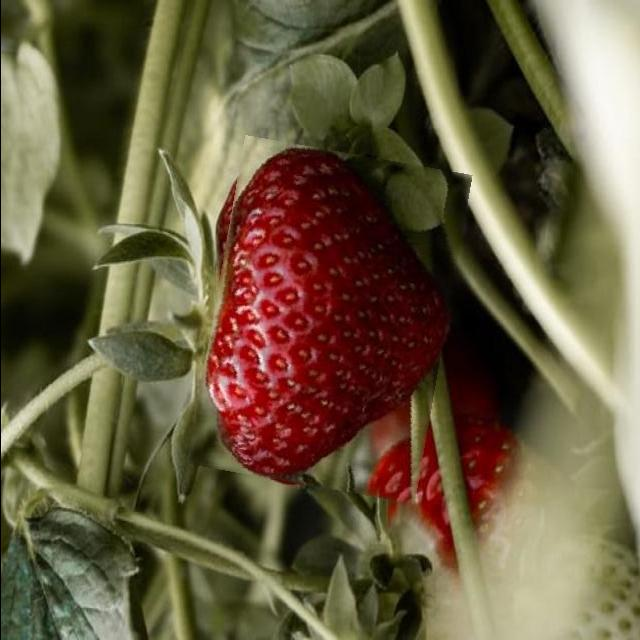strawberry: (201, 143, 458, 494)
